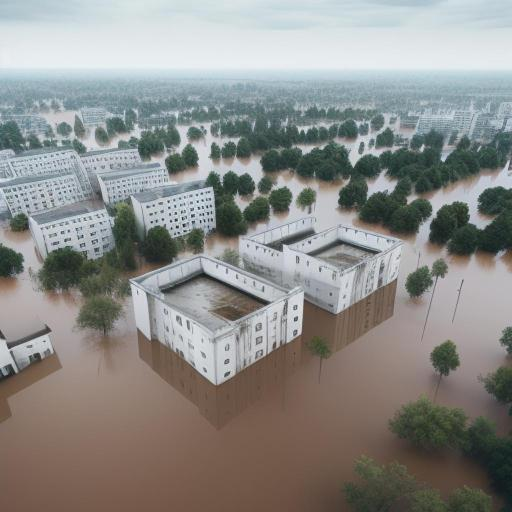flood: (0, 217, 512, 512), (0, 221, 512, 512), (0, 441, 325, 512), (170, 135, 392, 235), (248, 170, 389, 234), (422, 166, 512, 228), (174, 123, 240, 152), (337, 130, 386, 165), (78, 125, 142, 151), (38, 109, 80, 133), (204, 232, 239, 256), (368, 171, 397, 195), (126, 262, 161, 278), (235, 190, 261, 210), (298, 120, 332, 132), (390, 123, 414, 136), (380, 113, 392, 132), (299, 144, 324, 152), (152, 153, 167, 164), (409, 192, 421, 202), (67, 131, 76, 140), (56, 135, 64, 143)
house: (123, 254, 303, 390), (283, 225, 405, 317), (136, 184, 221, 246), (28, 205, 116, 261), (0, 174, 94, 217), (0, 318, 58, 381), (96, 164, 168, 206), (1, 148, 79, 176), (80, 145, 142, 165)
